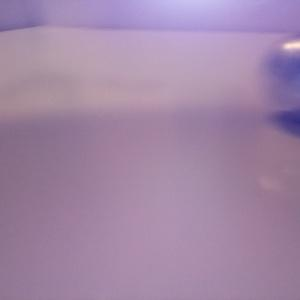alive_ball: (266, 32, 300, 123)
